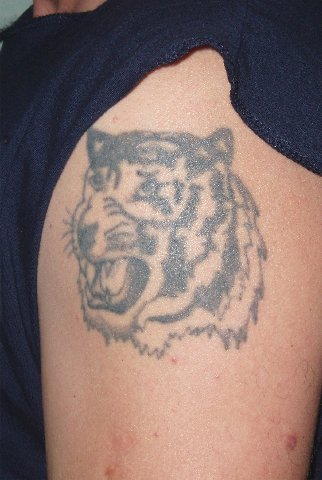tatu5_tigr: (61, 123, 273, 364)
